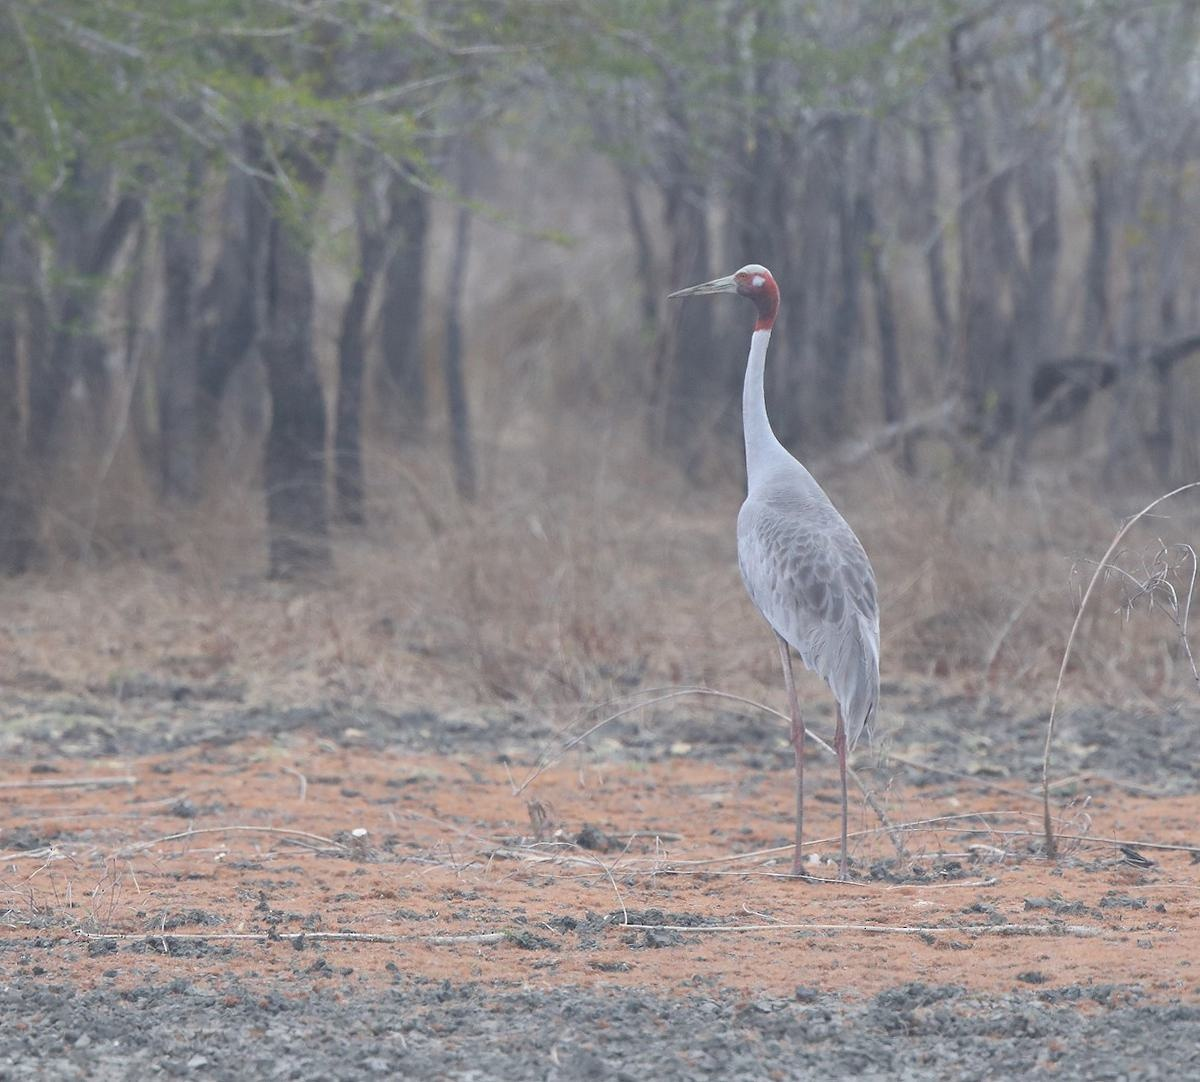crane: (662, 242, 909, 879)
